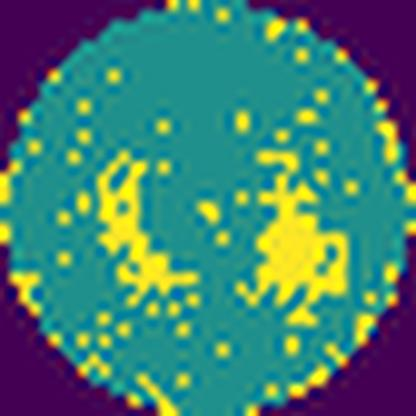Loc: (236, 148, 348, 326), (96, 152, 197, 306)
